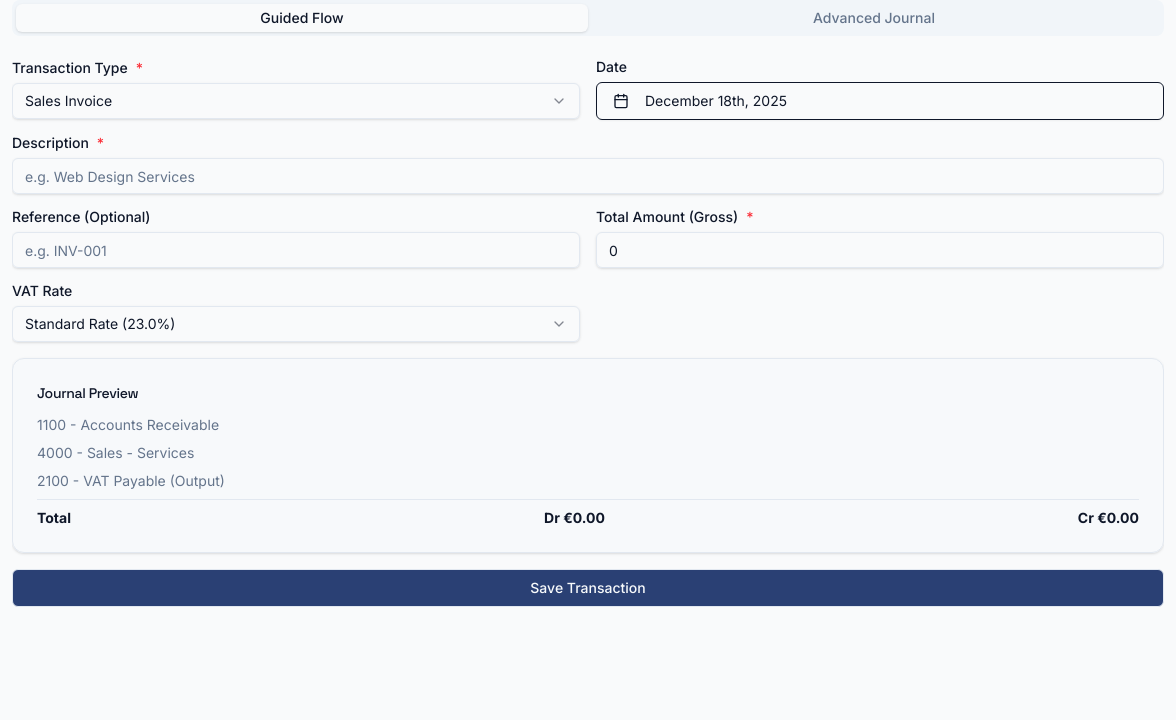
Scenario: TransactionForm › renders expense account selection for expenses
What coordinates should you click on to do the following:
click the dropdown with test id "select-type-trigger"
I would click on:
 (69, 100)
Its box is [12,83,580,119].
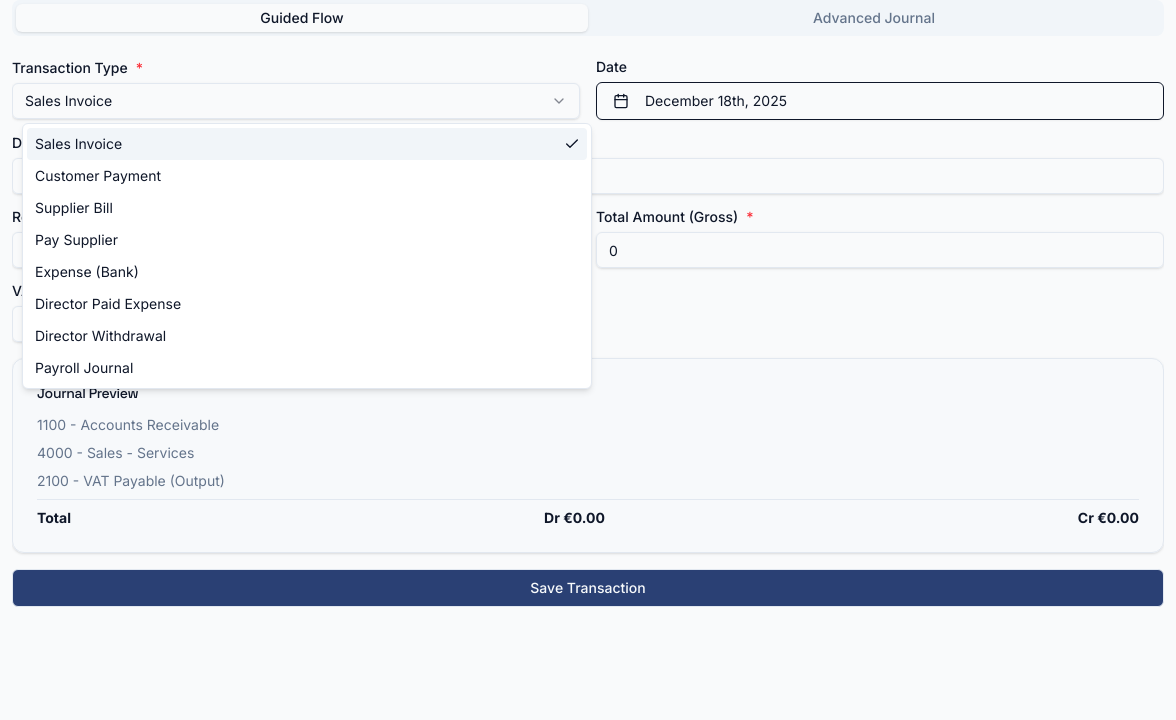
What coordinates should you click on to do the following:
click the option "Expense (Bank)"
I would click on:
 (87, 272)
Its box is [35,263,139,280].
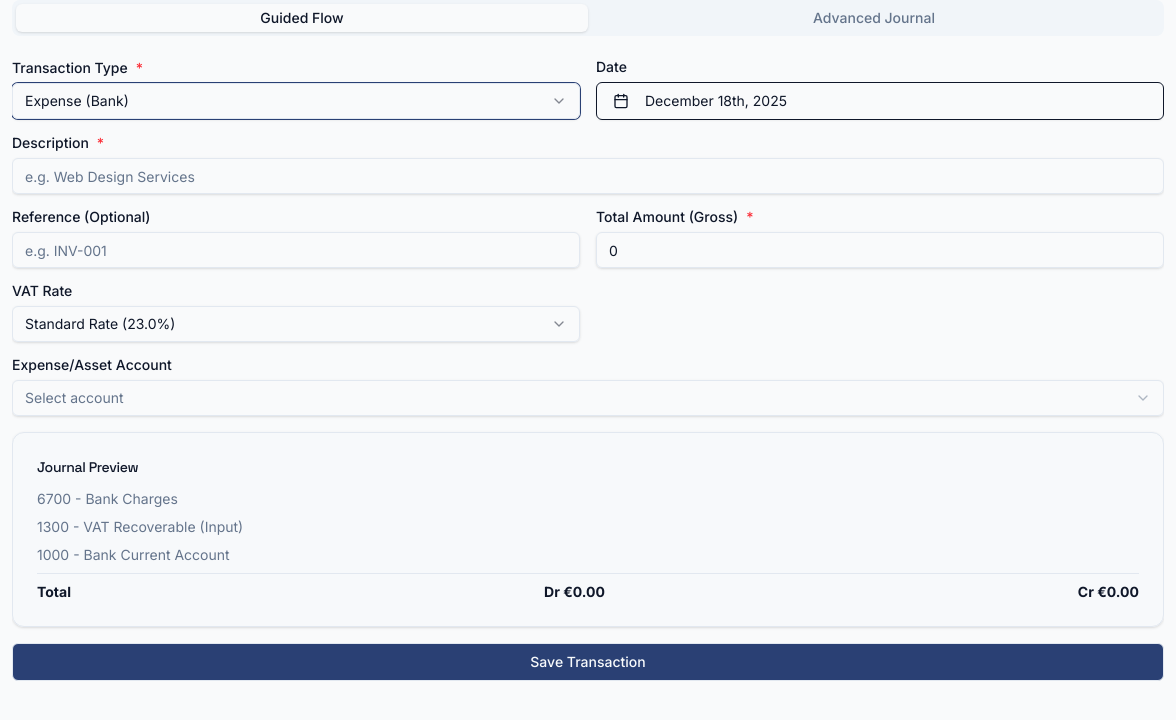
Expected: the text "Expense/Asset Account" is shown, [12,356,172,373]
